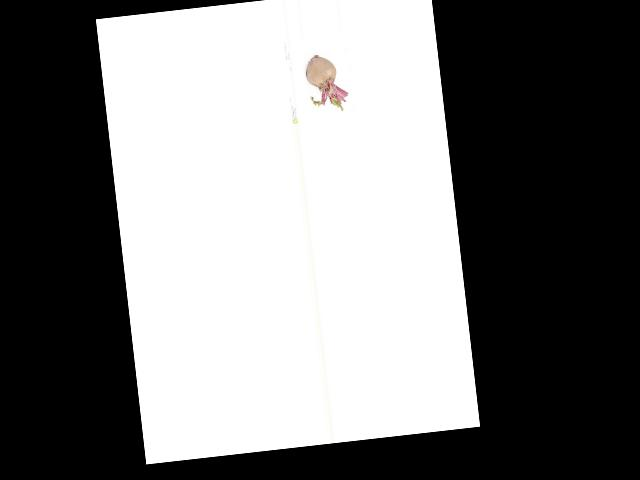beet: (304, 51, 349, 113)
